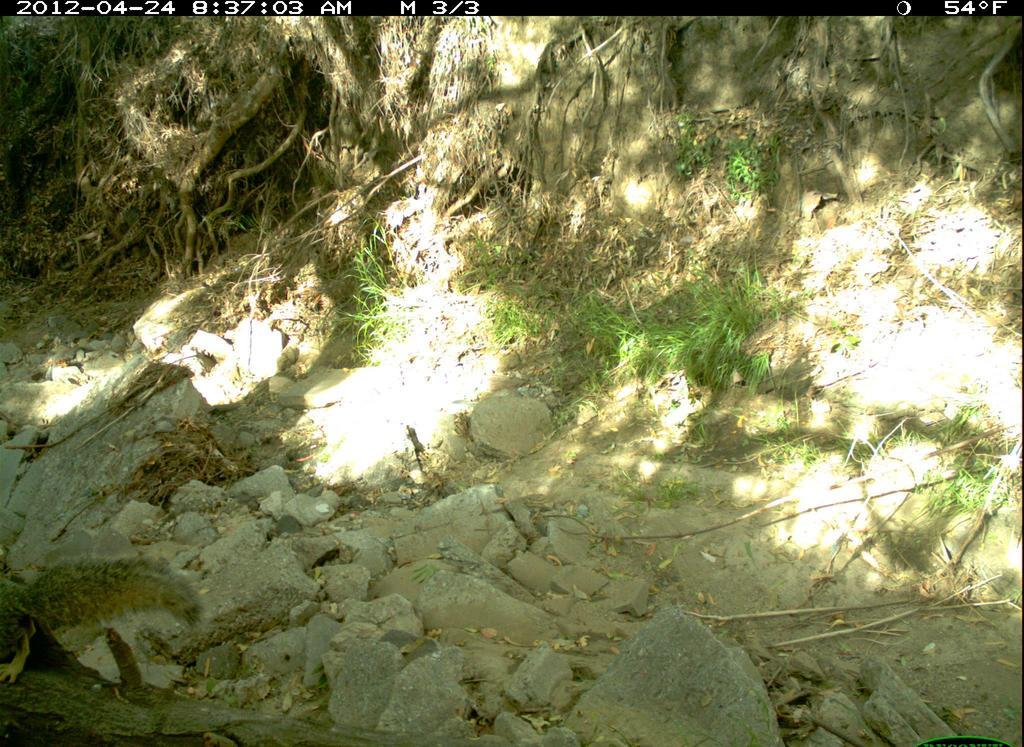squirrel: (2, 541, 222, 708)
